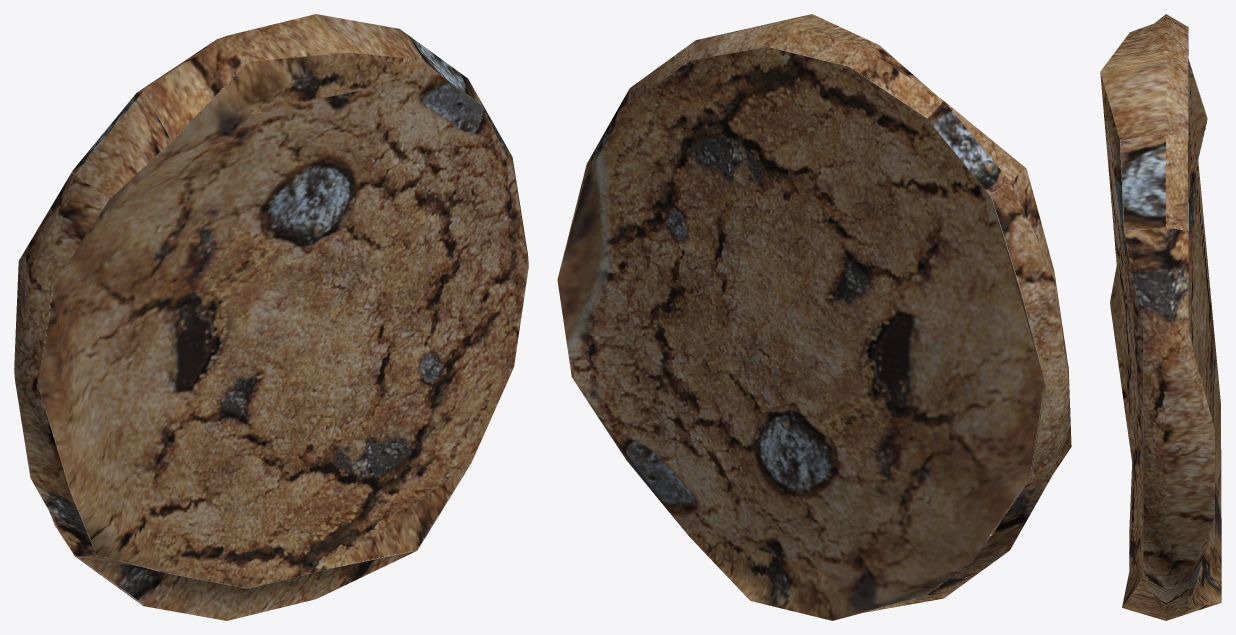
The model's file is CHIPSMORE.FBX.
3 renders of one model, left to right at view 1: azimuth 30°, elevation 25°; view 2: azimuth 150°, elevation 25°; view 3: azimuth 270°, elevation 25°, orthographic. The views are drawn at different scales.
Parts seen in each view (by area): view 1: Cylinder003; view 2: Cylinder003; view 3: Cylinder003.
Boxes of the visible parts, left/top/right/bottom form: Cylinder003: left=14, top=14, right=528, bottom=620; Cylinder003: left=557, top=14, right=1071, bottom=620; Cylinder003: left=1100, top=14, right=1221, bottom=620.
Bounding box in the file's own units: 99.88 × 109 × 21.58.
Materials: 1 (1 with a texture image).
